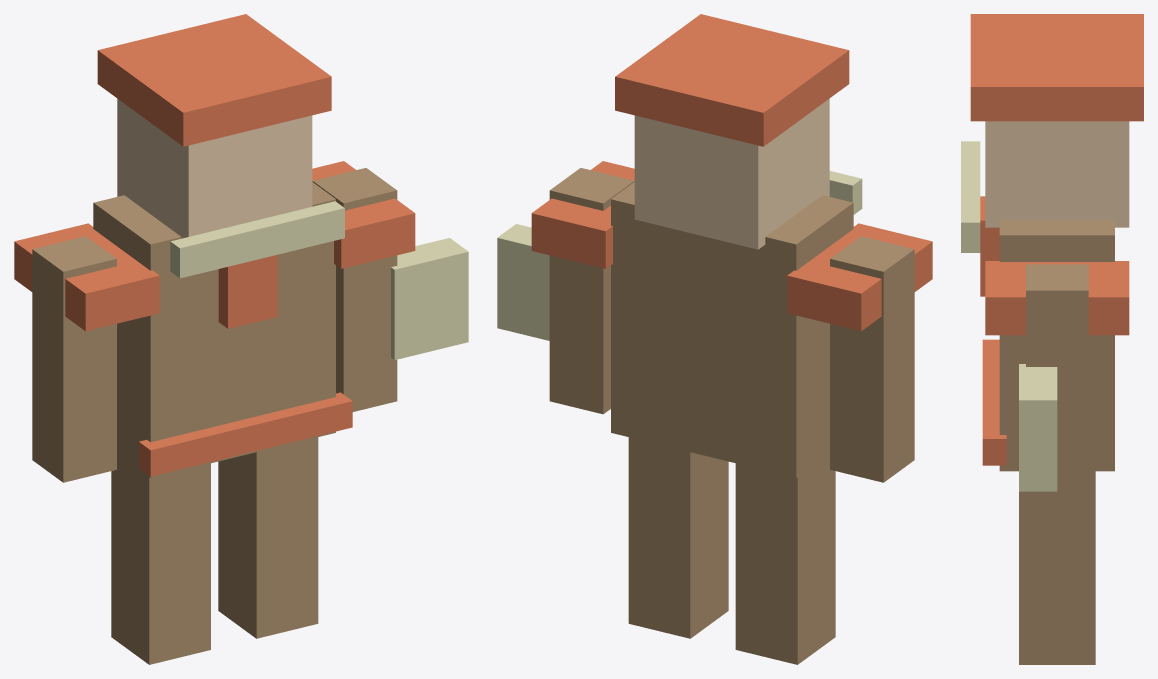
Rendered from 20_bryn_runeclasp_courier_near_smoke.glb.
3 views of the same model, side by side, from view 1: azimuth 30°, elevation 25°; view 2: azimuth 150°, elevation 25°; view 3: azimuth 270°, elevation 25° (orthographic).
Parts seen in each view (by area): view 1: Bryn Runeclasp, Courier near Smoke; view 2: Bryn Runeclasp, Courier near Smoke; view 3: Bryn Runeclasp, Courier near Smoke.
Part boxes in pixels (left/top/right/bottom): Bryn Runeclasp, Courier near Smoke: left=14, top=14, right=468, bottom=664; Bryn Runeclasp, Courier near Smoke: left=497, top=14, right=932, bottom=664; Bryn Runeclasp, Courier near Smoke: left=961, top=14, right=1143, bottom=664.
Bounding box in the file's own units: 1.06 × 1.43 × 0.4141.
